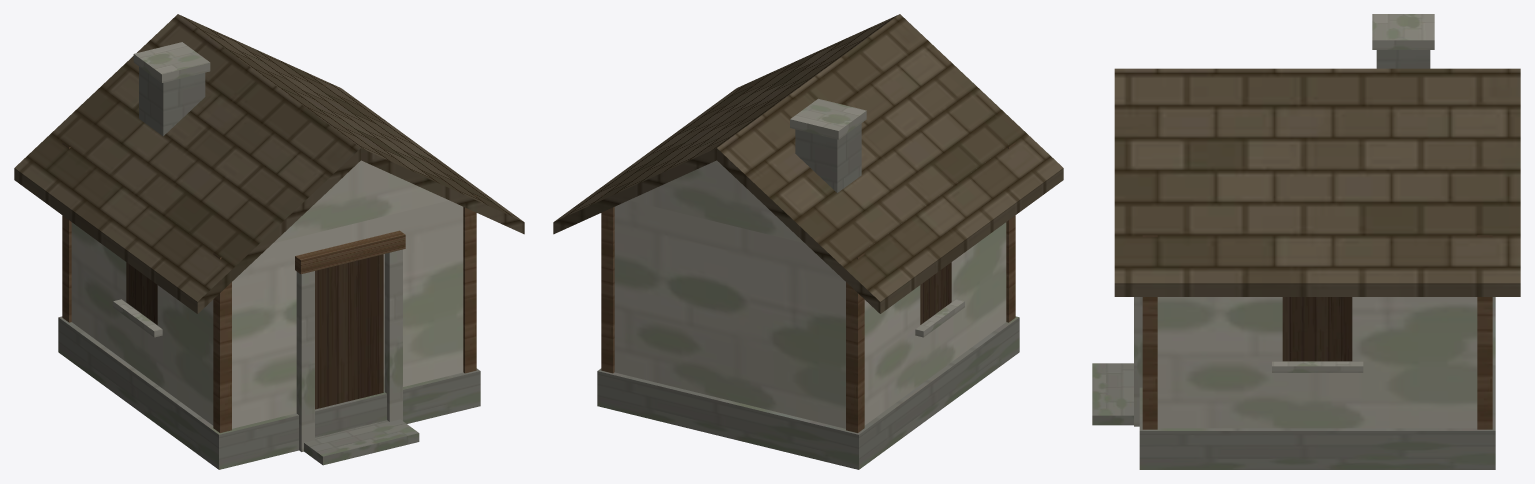
File: ae_forest_stone_small_hut_lod0.glb
3 renders of one model, left to right at view 1: azimuth 30°, elevation 25°; view 2: azimuth 150°, elevation 25°; view 3: azimuth 270°, elevation 25°, orthographic. The views are drawn at different scales.
Parts seen in each view (by area): view 1: ae_forest_stone_small_hut_lod0; view 2: ae_forest_stone_small_hut_lod0; view 3: ae_forest_stone_small_hut_lod0.
Boxes of the visible parts, x1,y1,x2,y2 form: ae_forest_stone_small_hut_lod0: [14, 14, 524, 469]; ae_forest_stone_small_hut_lod0: [553, 14, 1063, 469]; ae_forest_stone_small_hut_lod0: [1092, 14, 1520, 469].
Size of the model in its own units: 3.9 by 3.5 by 3.99.
1 material, 1 textured.
